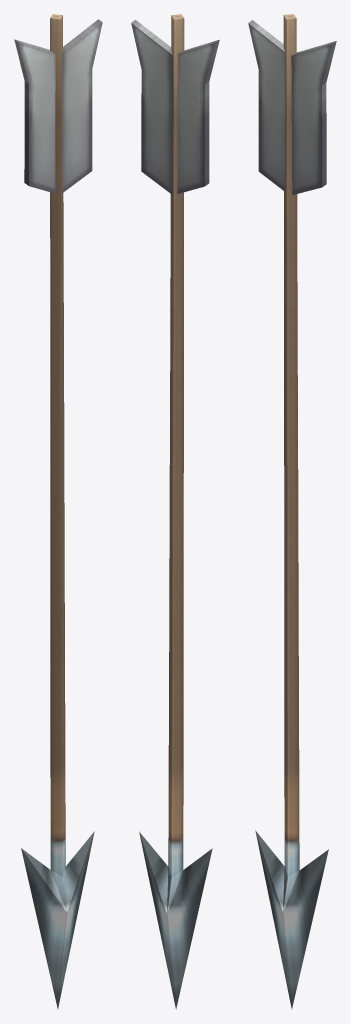
Rendered from Arrow.FBX.
3 renders of one model, left to right at view 1: azimuth 30°, elevation 25°; view 2: azimuth 150°, elevation 25°; view 3: azimuth 330°, elevation 25°, orthographic.
Visible parts, largest first — view 1: 20020_Arrow; view 2: 20020_Arrow; view 3: 20020_Arrow.
Boxes of the visible parts, left/top/right/bottom form: 20020_Arrow: left=14, top=14, right=102, bottom=1009; 20020_Arrow: left=131, top=14, right=219, bottom=1009; 20020_Arrow: left=248, top=14, right=336, bottom=1009.
Bounding box in the file's own units: 0.1116 × 0.041 × 1.26.
